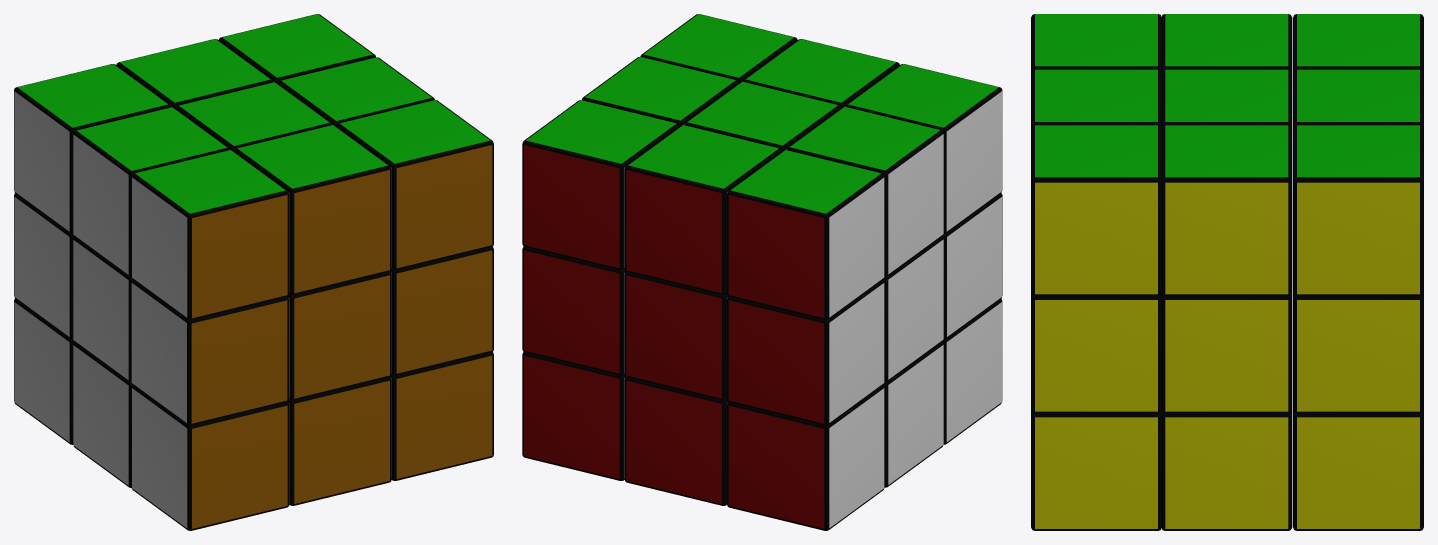
The model's file is Rubicc2.fbx.
The picture shows the model from 3 angles, left to right: view 1: azimuth 30°, elevation 25°; view 2: azimuth 150°, elevation 25°; view 3: azimuth 270°, elevation 25°; orthographic projection. The views are drawn at different scales.
Parts seen in each view (by area): view 1: pasted__pCube21DONE; view 2: pasted__pCube21DONE; view 3: pasted__pCube21DONE.
Part boxes in pixels (x1,y1,x2,y2): pasted__pCube21DONE: (14, 14, 493, 530); pasted__pCube21DONE: (522, 14, 1002, 530); pasted__pCube21DONE: (1031, 14, 1423, 530).
Size of the model in its own units: 3.01 by 2.98 by 3.
